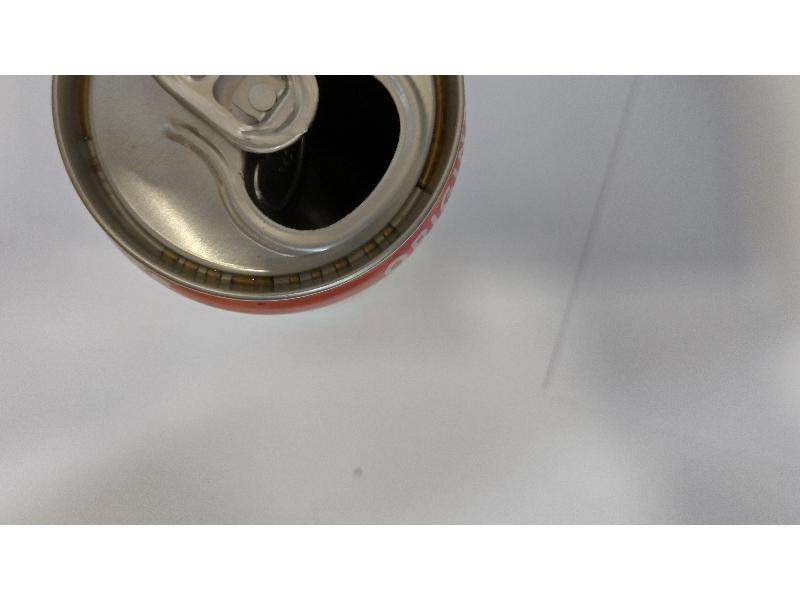can: (37, 75, 483, 326)
